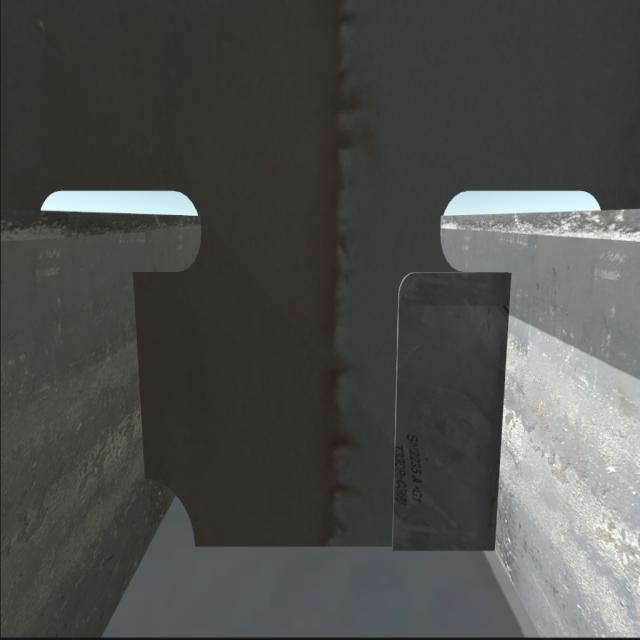fillet_hole: (149, 482, 197, 546)
fillet_yong_jeop_jang: (177, 531, 489, 560)
longi_yong_jeop_jang: (494, 266, 514, 561), (127, 268, 153, 477)
plate_CP05: (393, 272, 498, 551)
